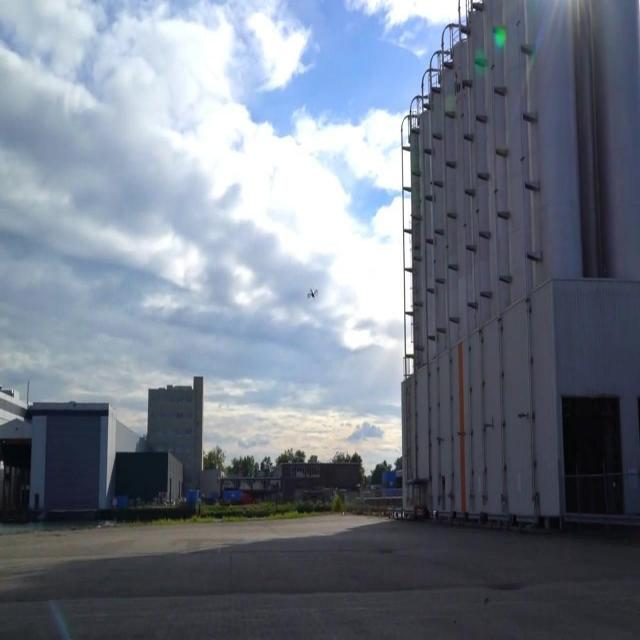UAV: (306, 288, 318, 299)
